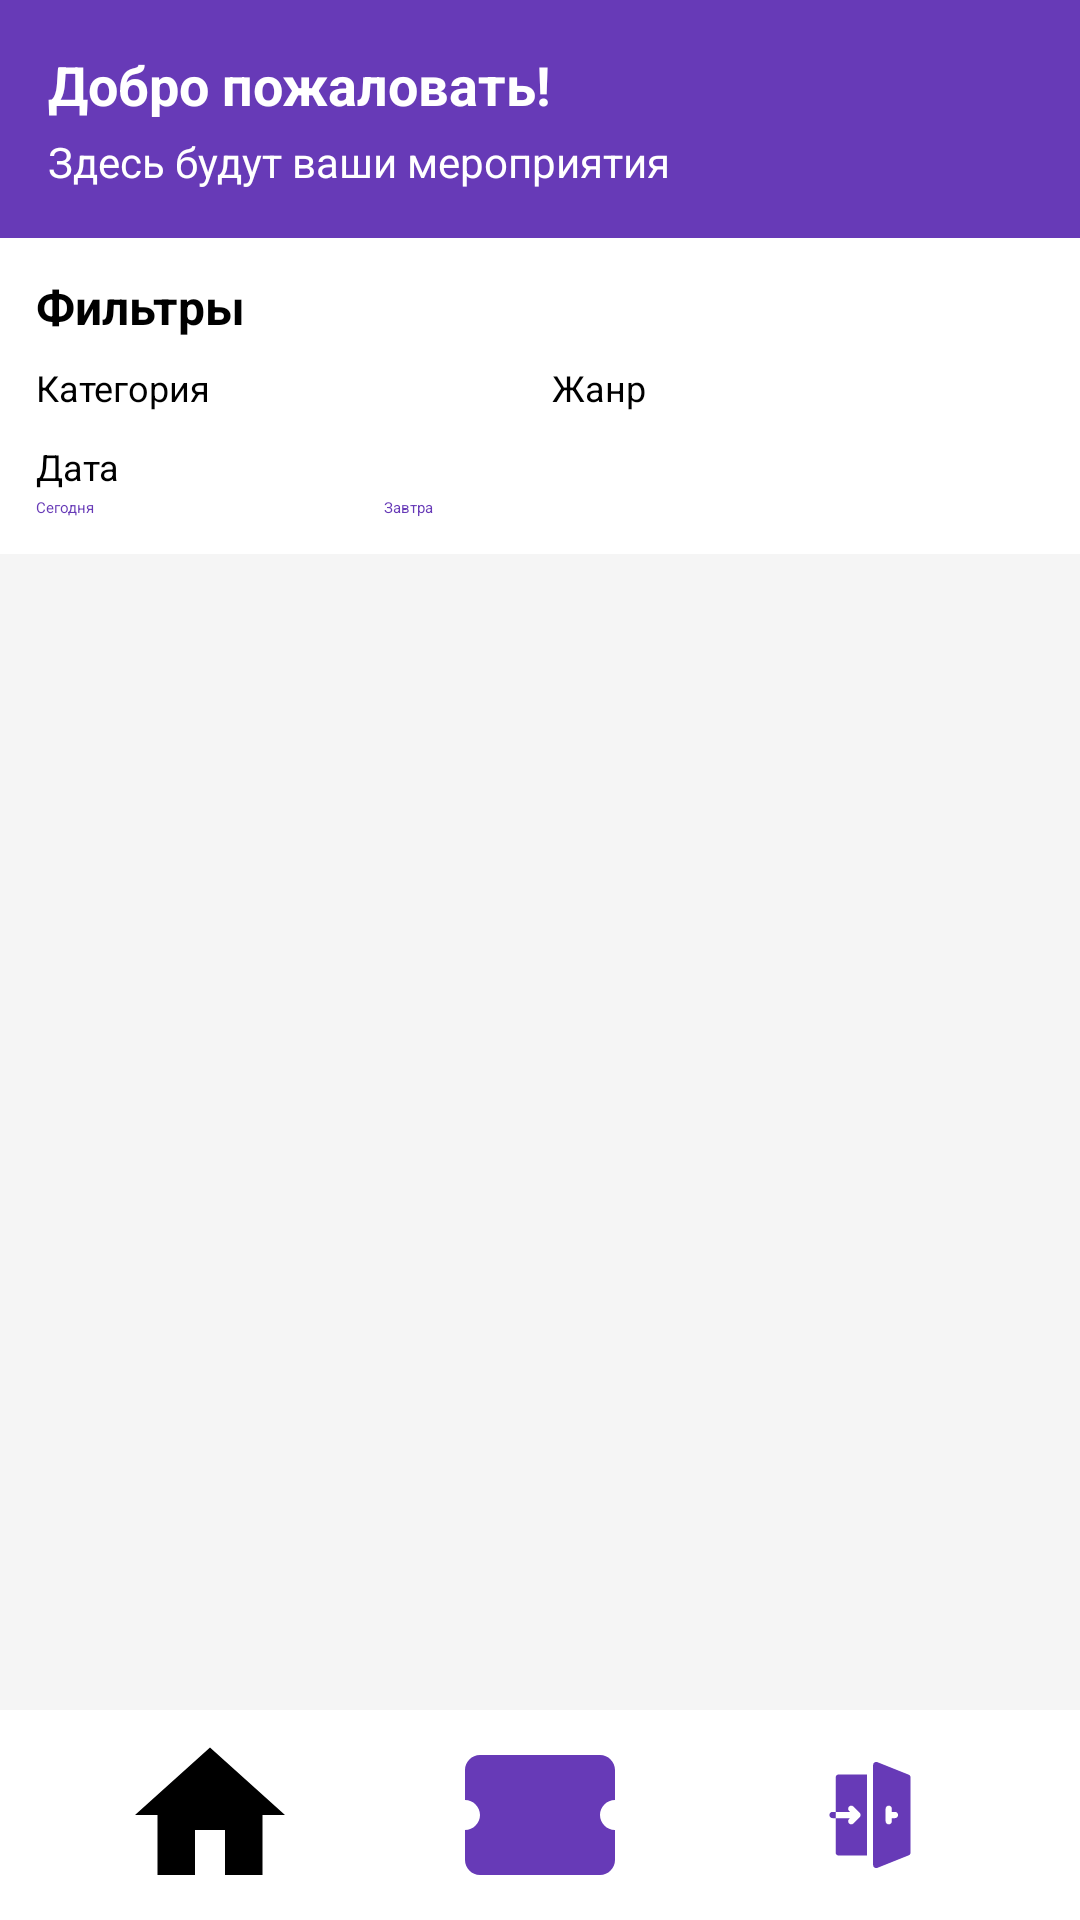

Icon bounding boxes for this 1080×1920 phone screenshot, format (x1, y1, x2, y2):
Выйти: (829, 1762, 911, 1868)
Главная: (135, 1747, 285, 1875)
Мои бронирования: (465, 1755, 615, 1875)
